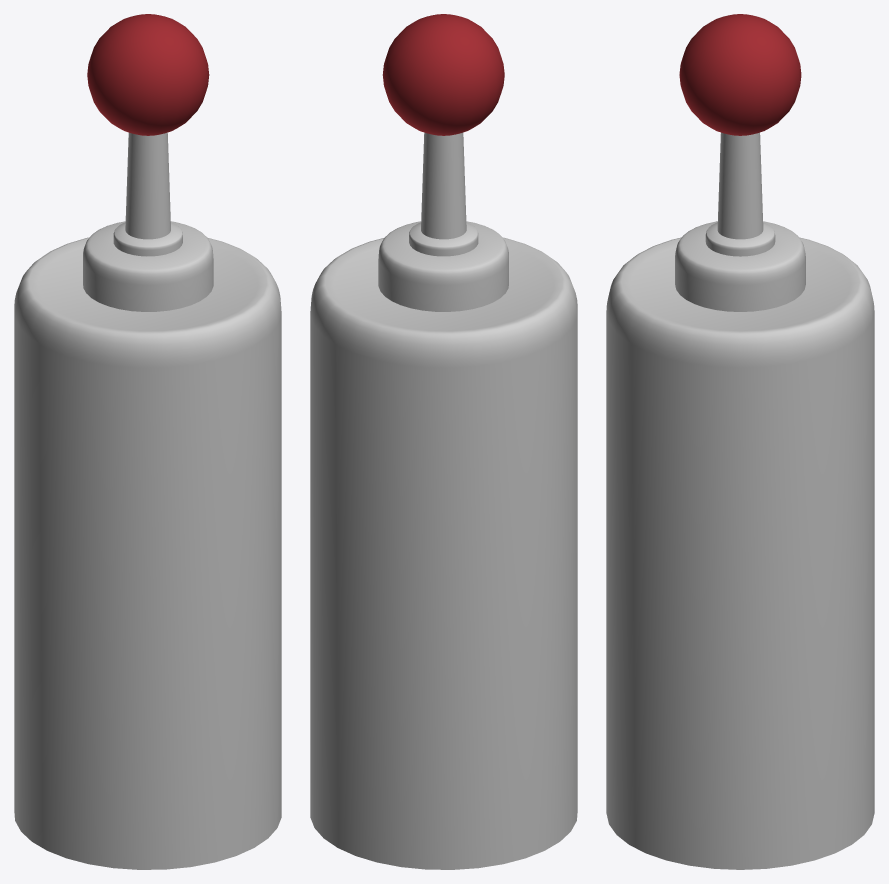
File: kolrevize.fbx
3 renders of one model, left to right at view 1: azimuth 30°, elevation 25°; view 2: azimuth 150°, elevation 25°; view 3: azimuth 270°, elevation 25°, orthographic.
Visible parts, largest first — view 1: Cylinder.002, Sphere, Cylinder, Cylinder.001; view 2: Cylinder.002, Sphere, Cylinder, Cylinder.001; view 3: Cylinder.002, Sphere, Cylinder, Cylinder.001.
Boxes of the visible parts, x1=… form: Cylinder.002: x1=14, y1=237, x2=281, y2=869; Sphere: x1=87, y1=14, x2=209, y2=135; Cylinder: x1=83, y1=221, x2=213, y2=311; Cylinder.001: x1=125, y1=132, x2=170, y2=239; Cylinder.002: x1=310, y1=237, x2=577, y2=869; Sphere: x1=382, y1=14, x2=504, y2=135; Cylinder: x1=378, y1=221, x2=508, y2=311; Cylinder.001: x1=421, y1=132, x2=466, y2=239; Cylinder.002: x1=606, y1=237, x2=874, y2=869; Sphere: x1=679, y1=14, x2=801, y2=135; Cylinder: x1=675, y1=221, x2=805, y2=311; Cylinder.001: x1=717, y1=132, x2=763, y2=239.
Bounding box in the file's own units: 439 × 1435 × 439.
